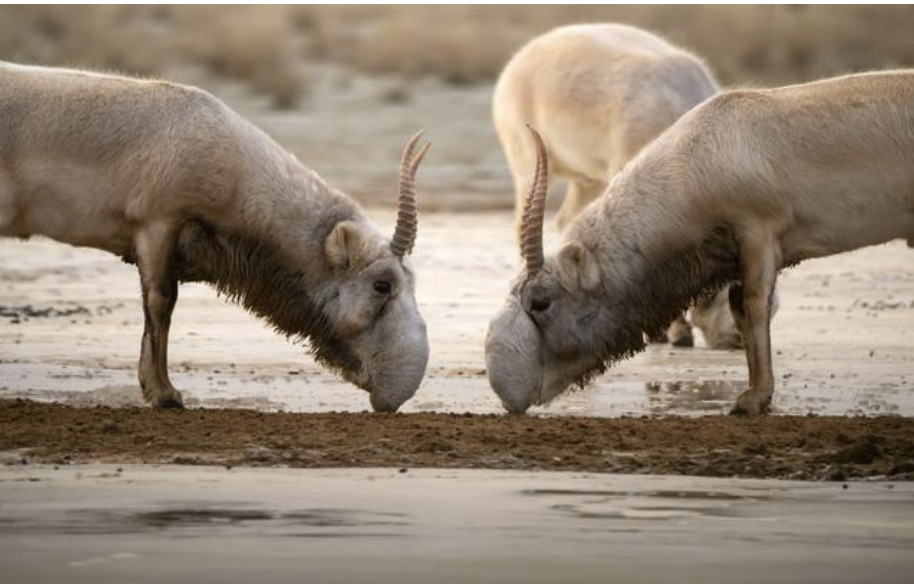saiga: (1, 45, 443, 424), (517, 34, 914, 430)
